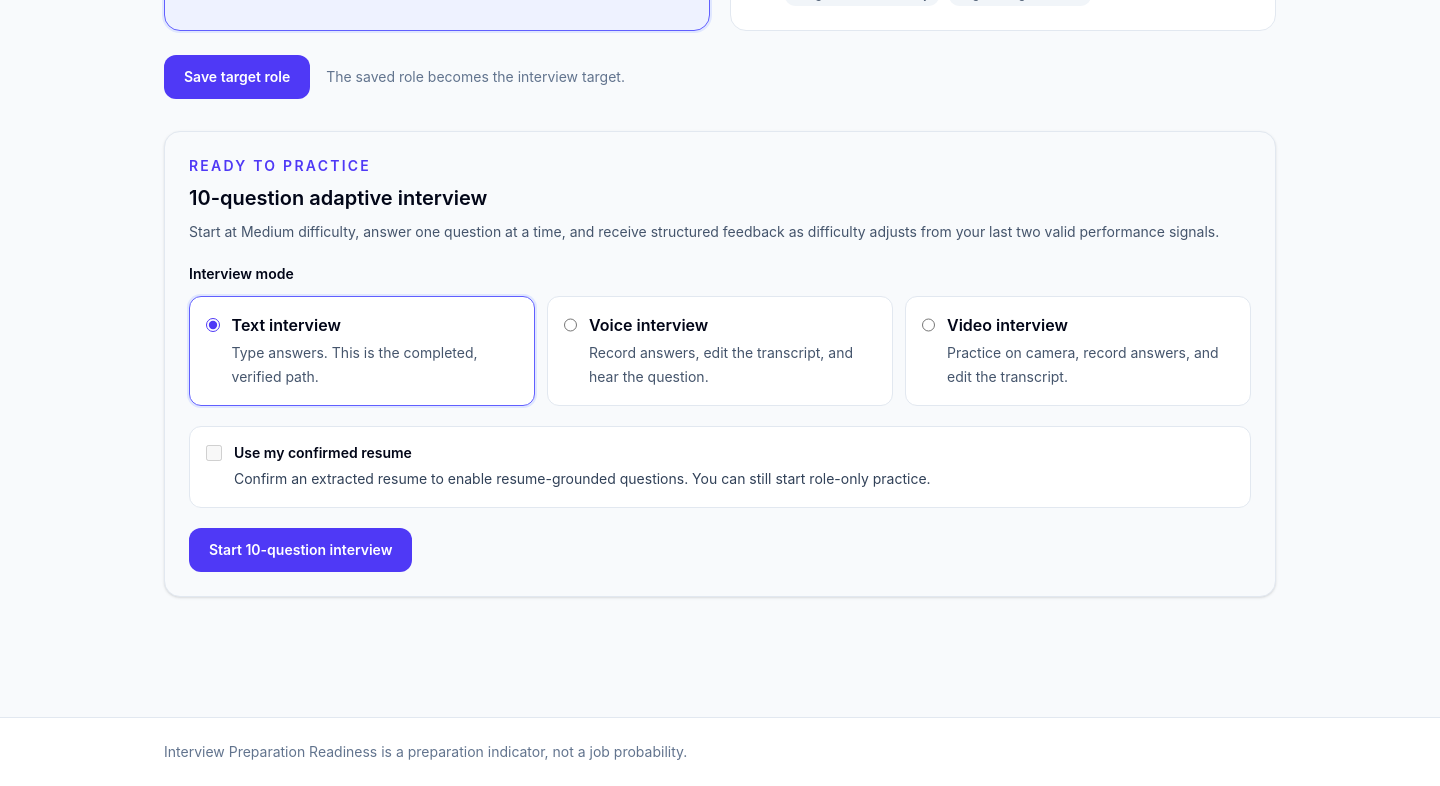
Test: Phase 3 interview pages › starts a role-only interview from setup and opens the generated first question
(page scrolled)
Click the button "Start 10-question interview". click: (301, 550)
box: [189,528,412,572]
(page scrolled)
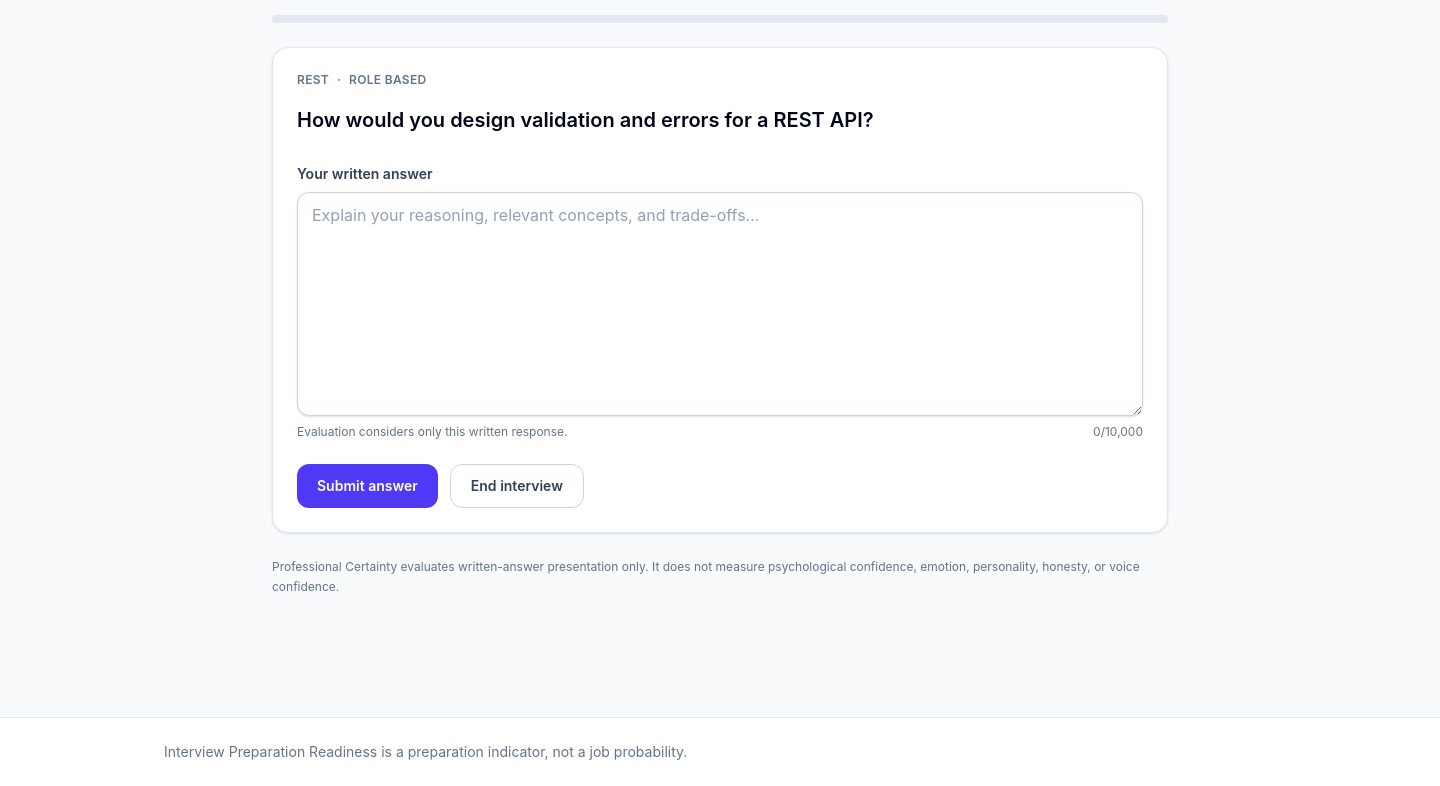
expect the heading "How would you design validation and errors for a REST API?" is shown: met, box [297,108,874,132]
